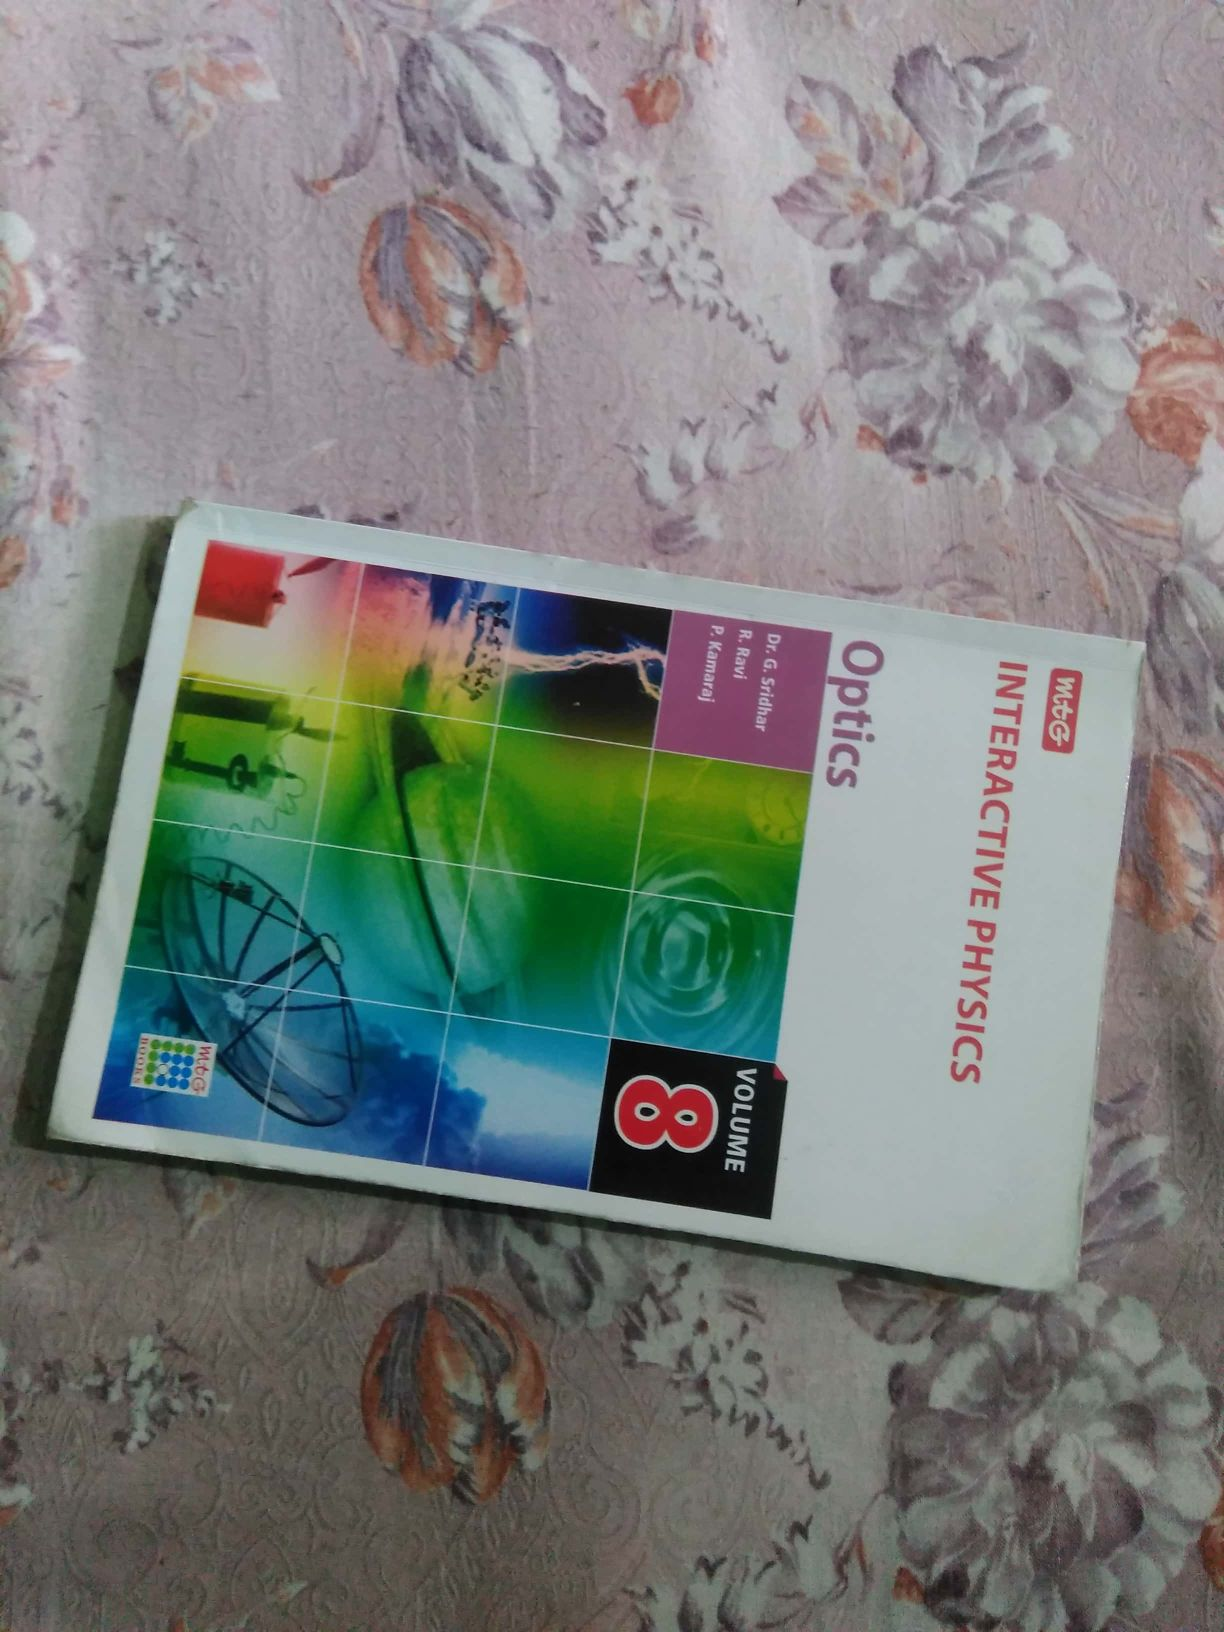optics: (44, 481, 1139, 1353)
